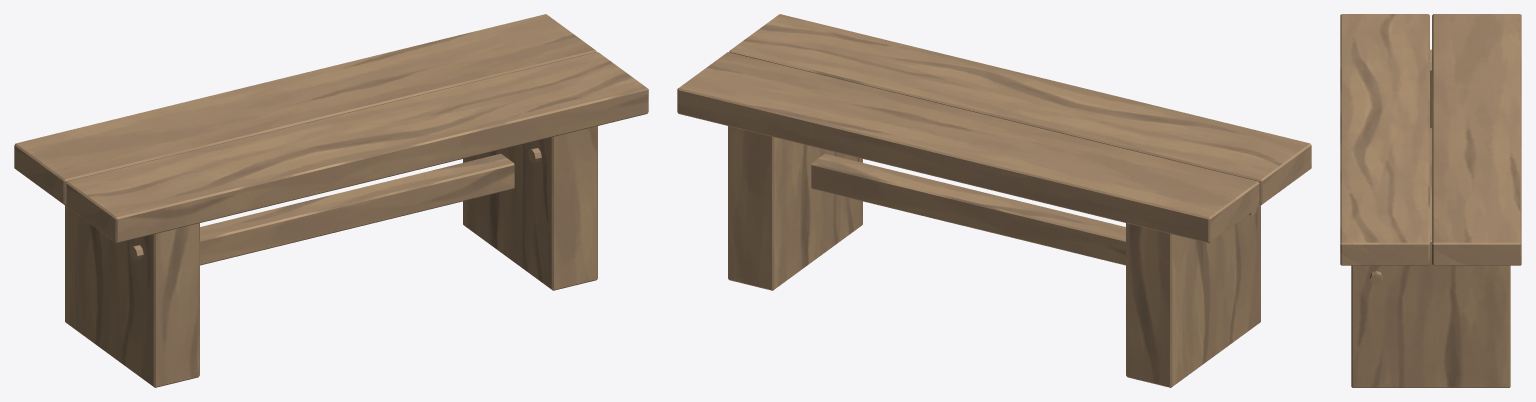
Rendered from F02_plank_bench.fbx.
3 renders of one model, left to right at view 1: azimuth 30°, elevation 25°; view 2: azimuth 150°, elevation 25°; view 3: azimuth 270°, elevation 25°, orthographic. The views are drawn at different scales.
Visible parts, largest first — view 1: F02_Plankbench; view 2: F02_Plankbench; view 3: F02_Plankbench.
Part boxes in pixels (x1=…): F02_Plankbench: x1=14, y1=14, x2=648, y2=387; F02_Plankbench: x1=677, y1=14, x2=1311, y2=387; F02_Plankbench: x1=1340, y1=14, x2=1521, y2=387.
Bounding box in the file's own units: 1.5 × 0.5 × 0.5.
